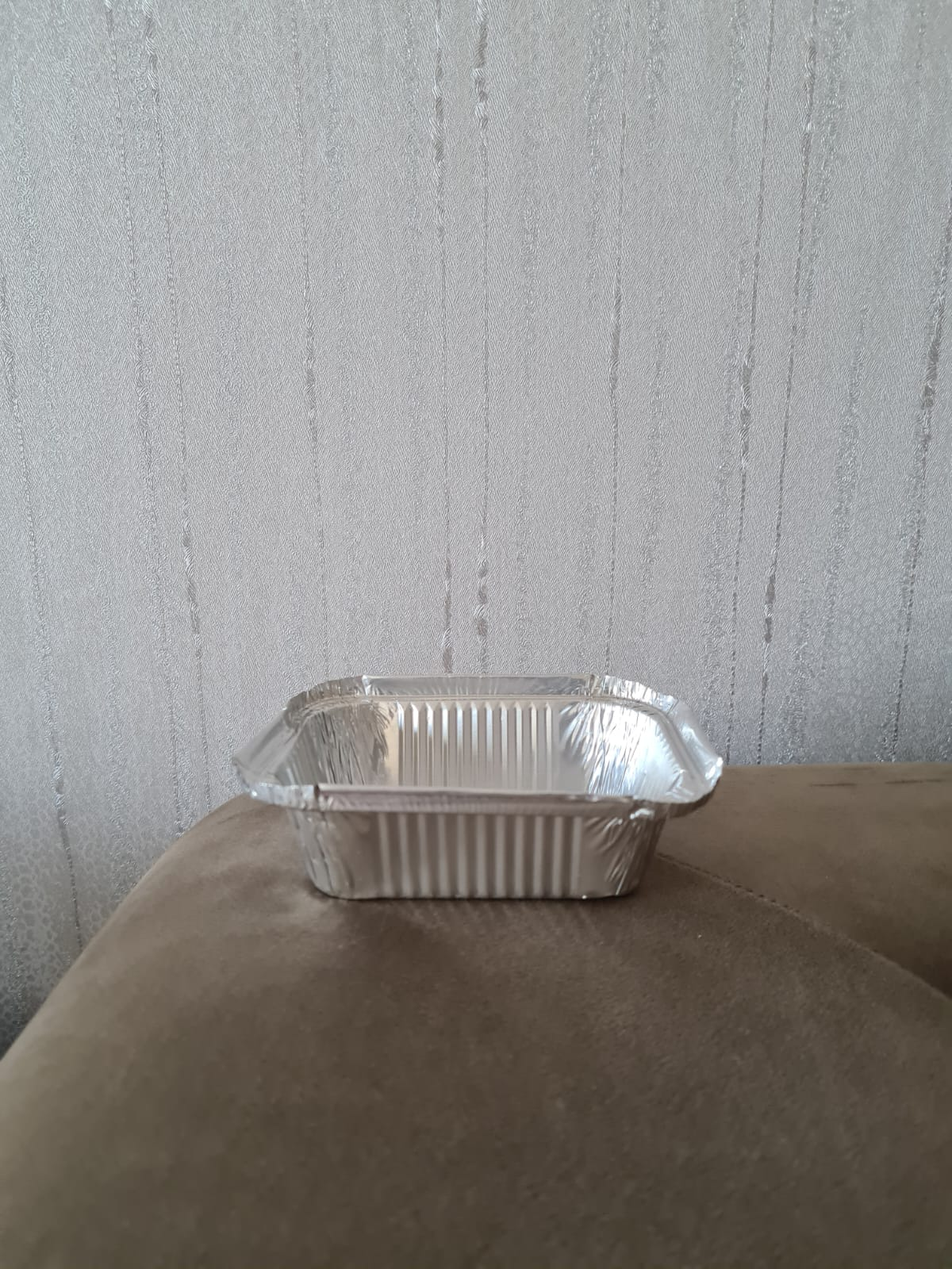Metal: (210, 672, 738, 907)
